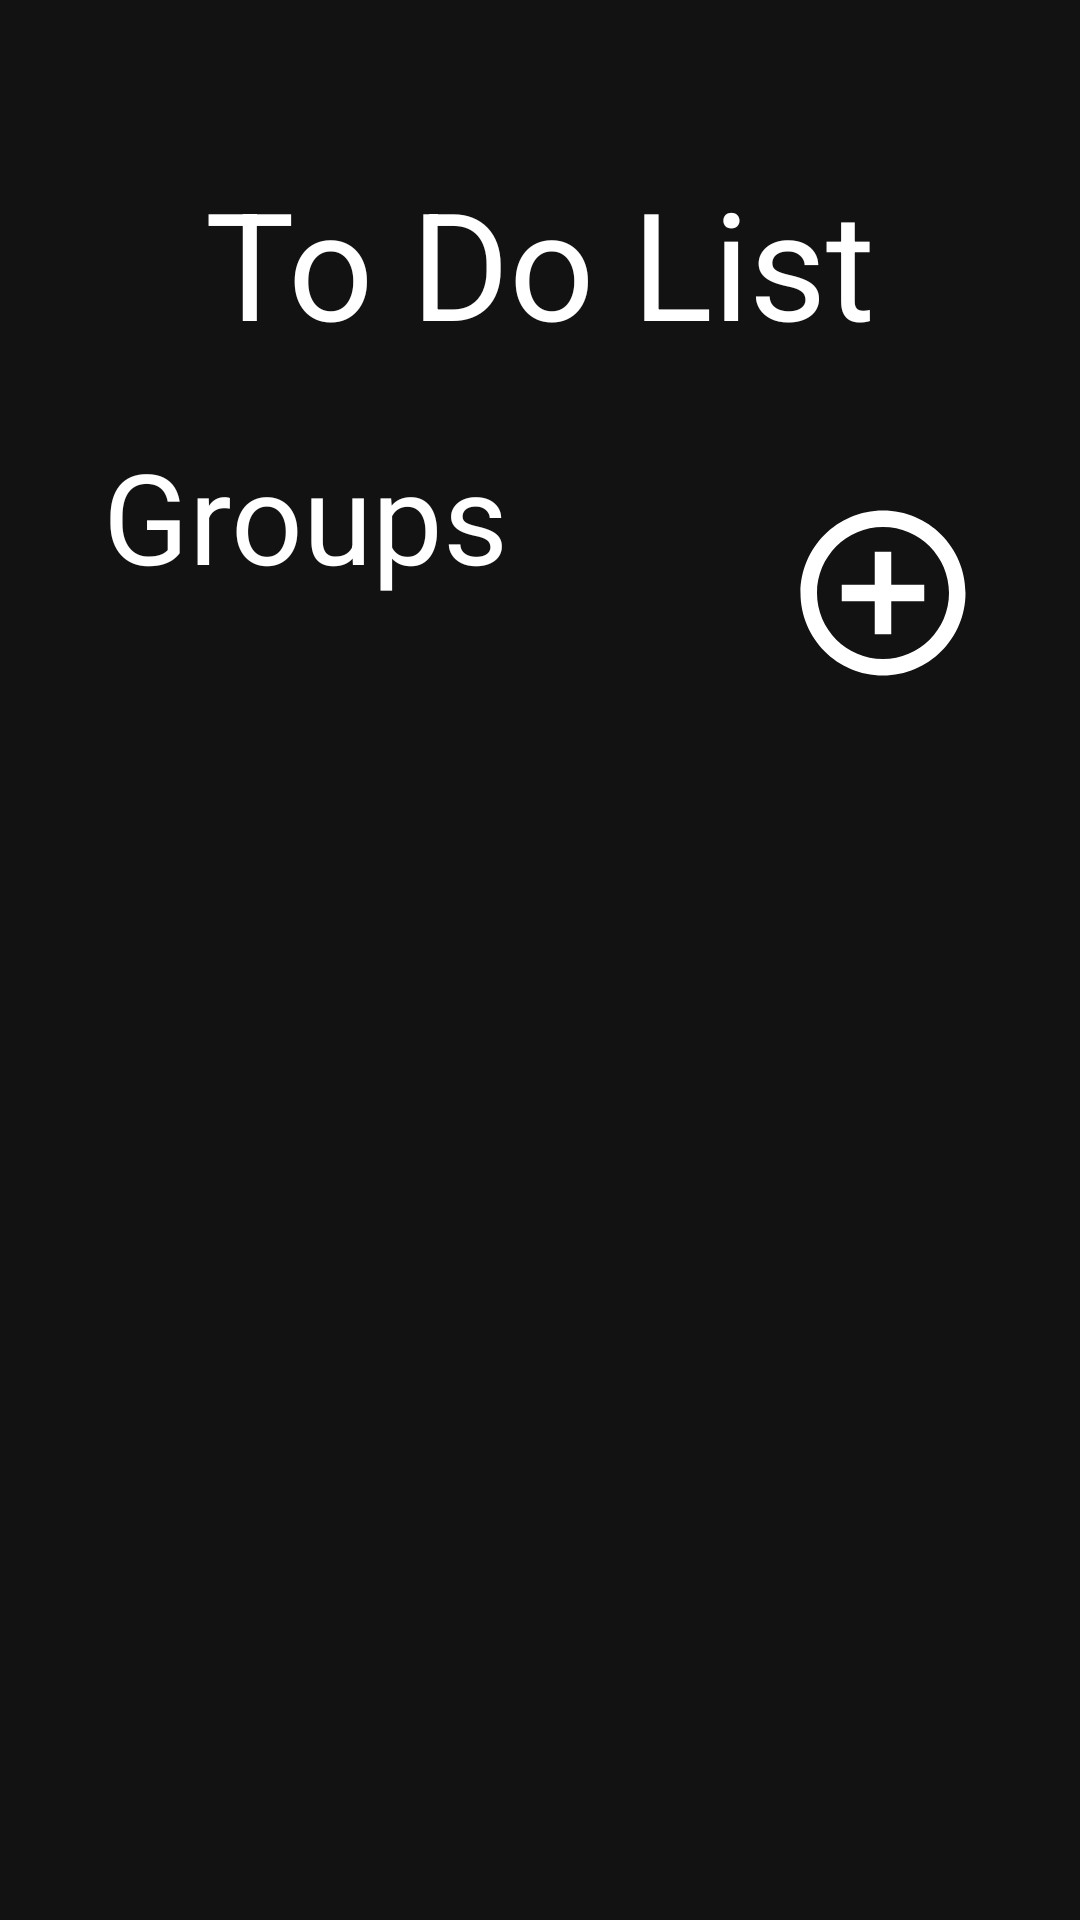

Where to tap for icons on this 1080 × 1920 app screen, as point (x, y):
add group: point (883, 593)
